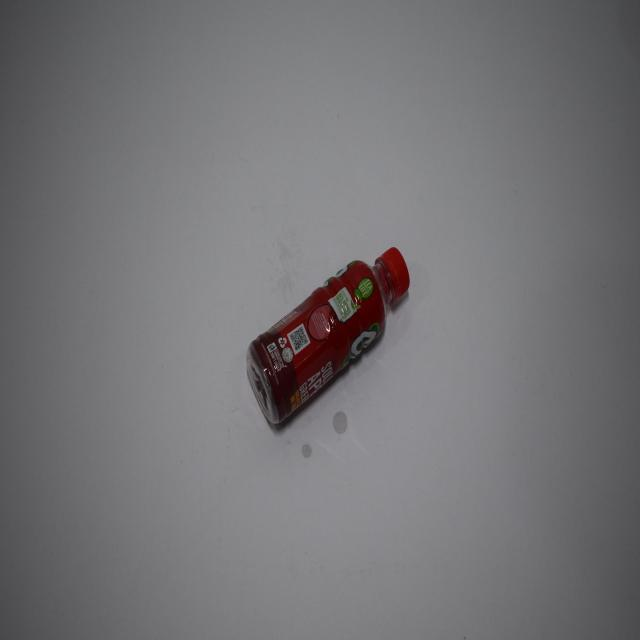bottle: (229, 245, 421, 441)
